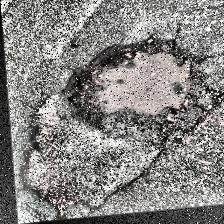pothole: (58, 35, 202, 135)
